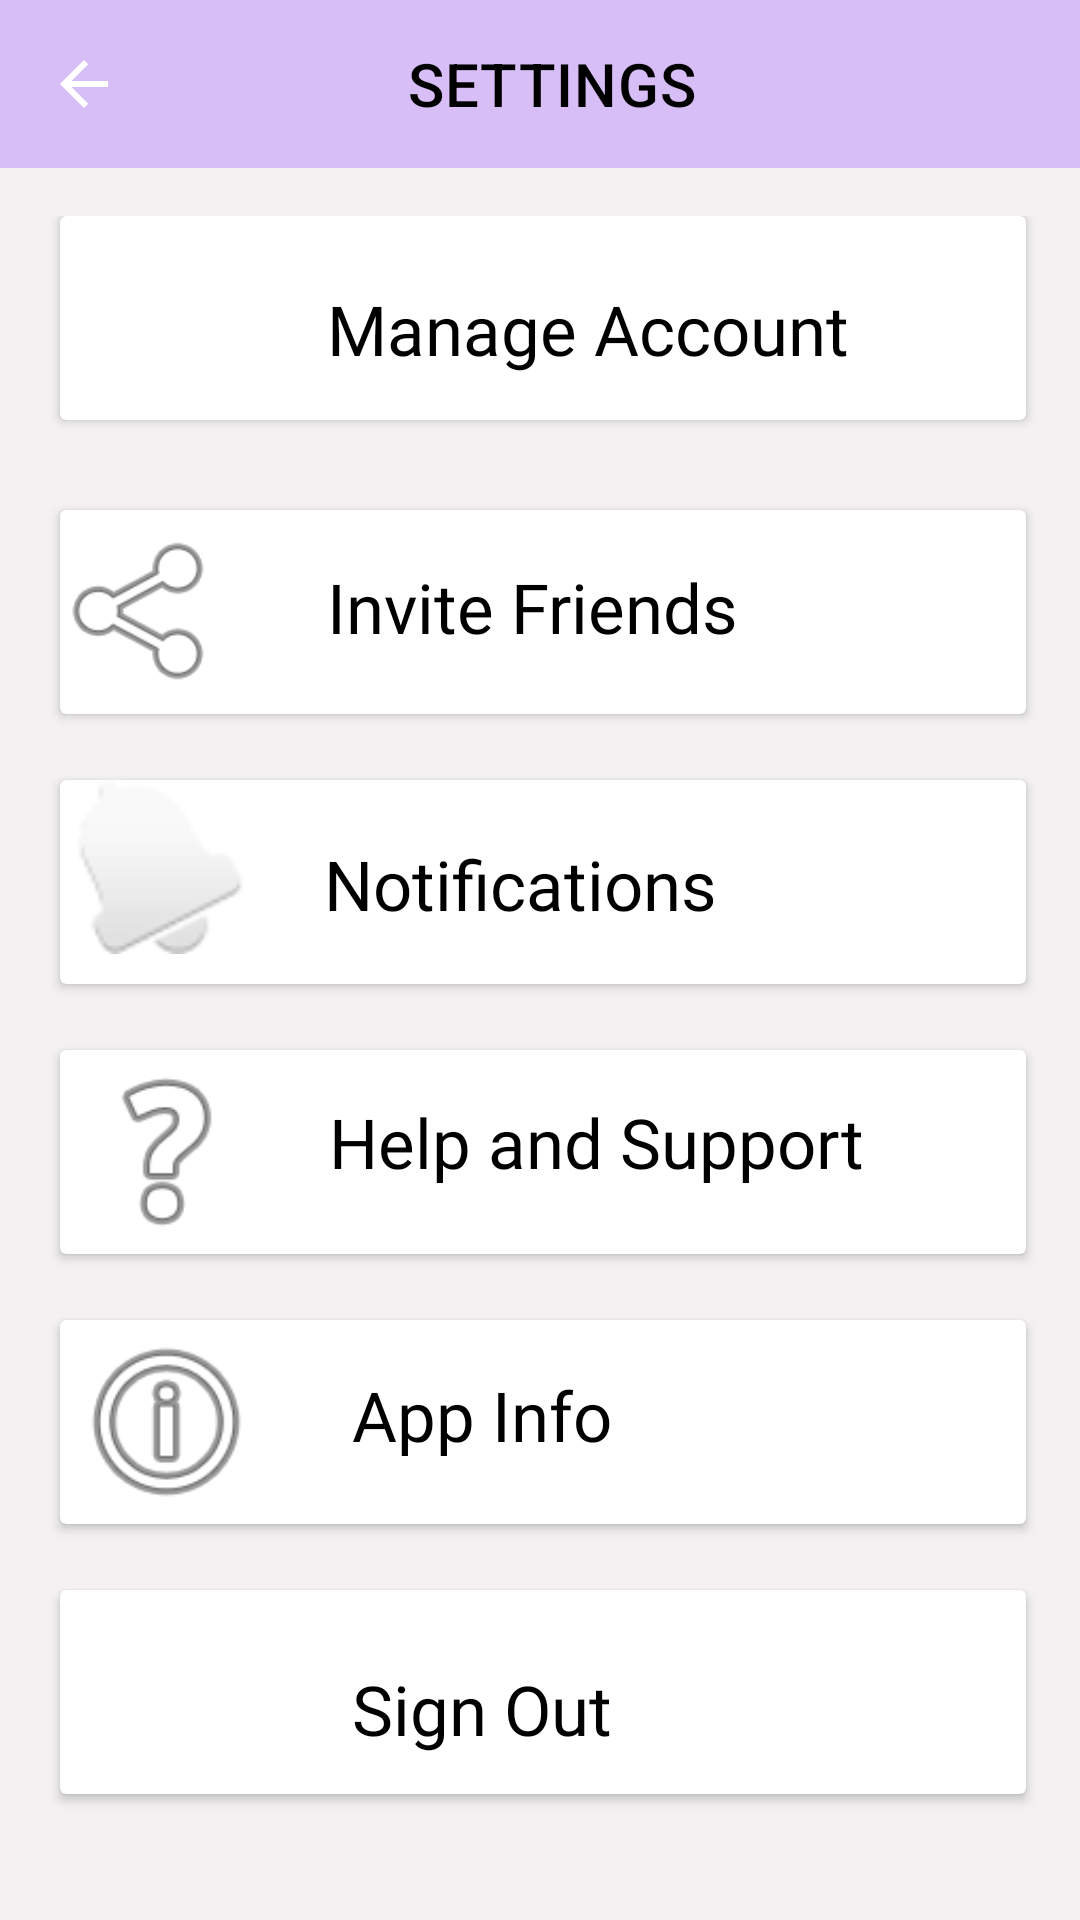

Icons on this 1080px x 1920px Android screen, each with the point to tap as point (x, y):
info details: point (166, 1422)
share: point (137, 611)
